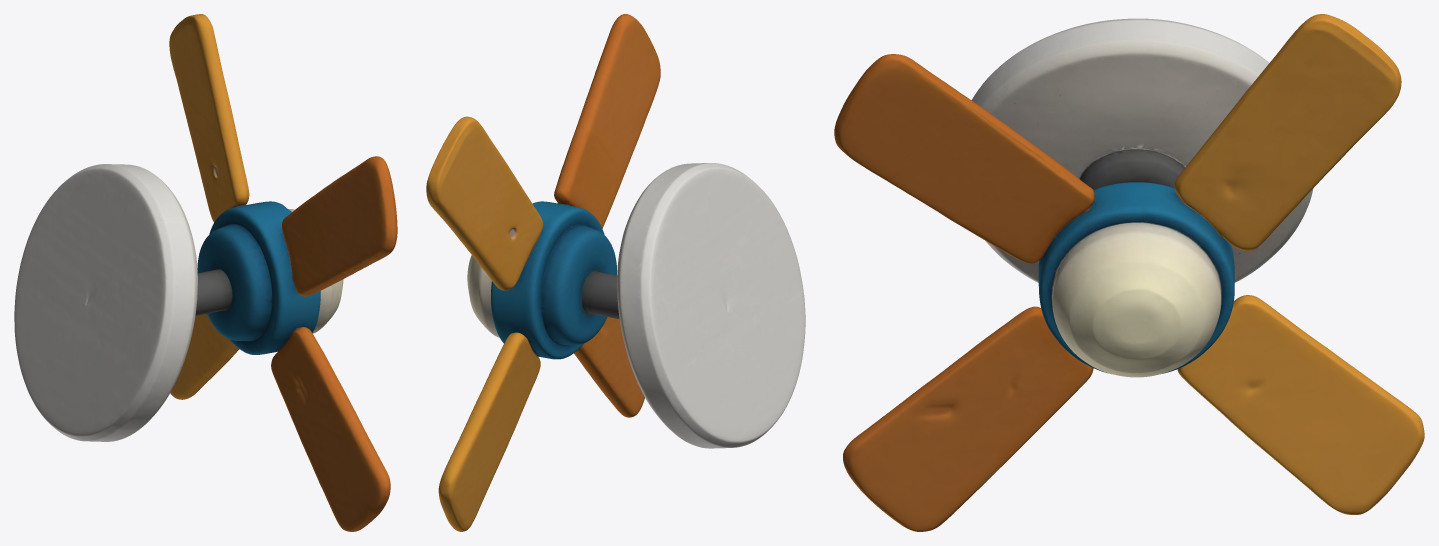
Rendered from fan-alt-web.glb.
3 views of the same model, side by side, from view 1: azimuth 30°, elevation 25°; view 2: azimuth 150°, elevation 25°; view 3: azimuth 270°, elevation 25° (orthographic). The views are drawn at different scales.
Parts seen in each view (by area): view 1: tripo_node_03ddfc82-18a4-4775-98bf-0e675bba3479; view 2: tripo_node_03ddfc82-18a4-4775-98bf-0e675bba3479; view 3: tripo_node_03ddfc82-18a4-4775-98bf-0e675bba3479.
Boxes of the visible parts, <box> form: tripo_node_03ddfc82-18a4-4775-98bf-0e675bba3479: <box>14,14,397,531</box>; tripo_node_03ddfc82-18a4-4775-98bf-0e675bba3479: <box>426,14,805,531</box>; tripo_node_03ddfc82-18a4-4775-98bf-0e675bba3479: <box>834,14,1424,531</box>.
Size of the model in its own units: 0.7027 by 0.969 by 1.
1 material, 1 textured.
